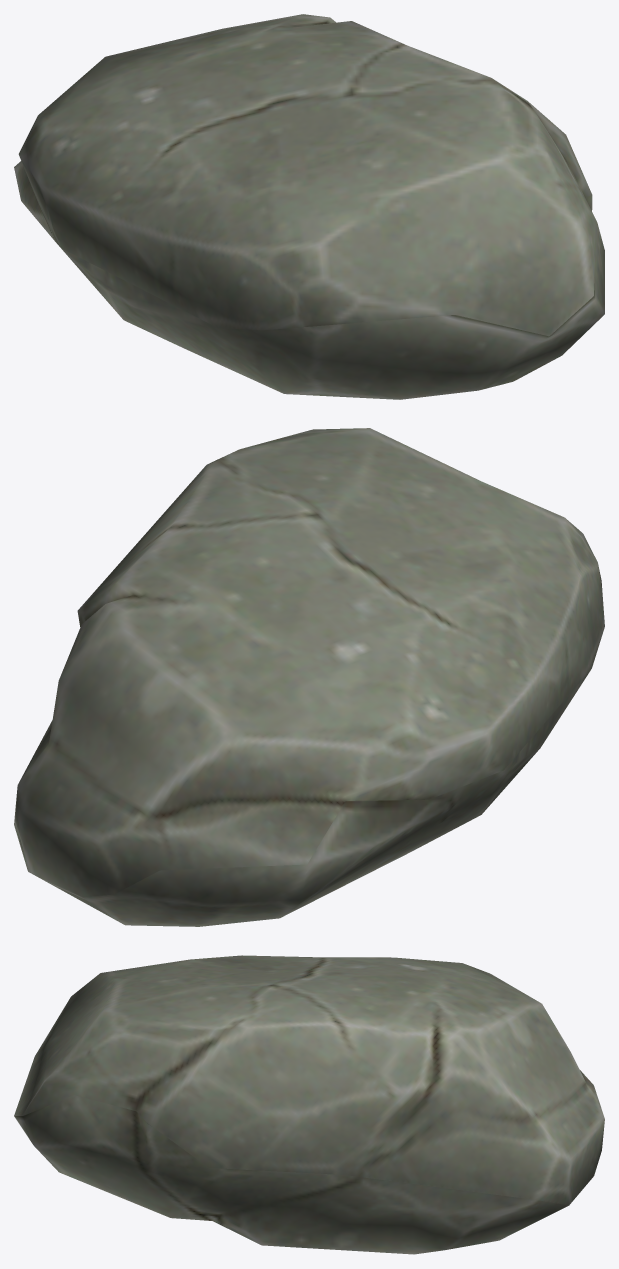
File: Lty_st_05.FBX
3 renders of one model, top to bottom at view 1: azimuth 30°, elevation 25°; view 2: azimuth 150°, elevation 25°; view 3: azimuth 270°, elevation 25°, orthographic. The views are drawn at different scales.
Parts seen in each view (by area): view 1: Mesh 1; view 2: Mesh 1; view 3: Mesh 1.
Part boxes in pixels (bbox=[...]): Mesh 1: bbox=[14, 14, 604, 399]; Mesh 1: bbox=[14, 428, 604, 926]; Mesh 1: bbox=[14, 955, 604, 1254].
Size of the model in its own units: 89.45 by 57.57 by 135.
